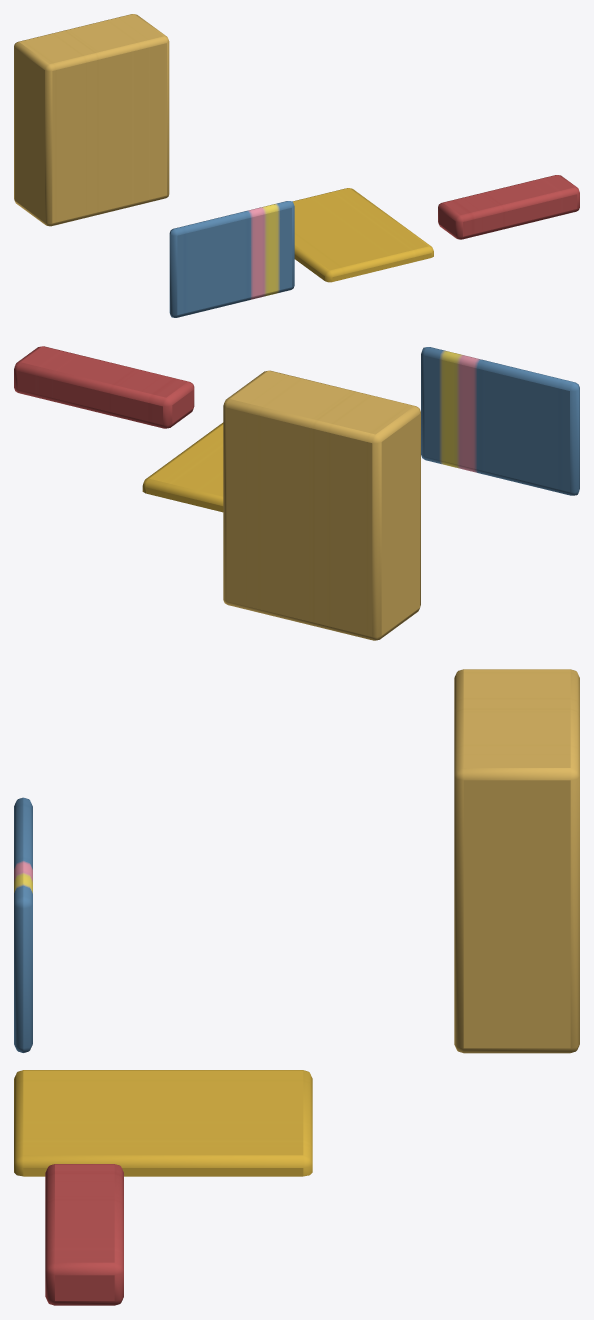
The model's file is DoHoc_Nhim.glb.
The picture shows the model from 3 angles, top to bottom: view 1: azimuth 30°, elevation 25°; view 2: azimuth 150°, elevation 25°; view 3: azimuth 270°, elevation 25°; orthographic projection. The views are drawn at different scales.
Parts seen in each view (by area): view 1: geometry_0; view 2: geometry_0; view 3: geometry_0.
Part boxes in pixels (left/top/right/bottom): geometry_0: left=14, top=14, right=579, bottom=317; geometry_0: left=14, top=346, right=579, bottom=640; geometry_0: left=14, top=669, right=579, bottom=1305.
Bounding box in the file's own units: 0.54 × 0.2 × 0.36.
Materials: 1 (1 with a texture image).
